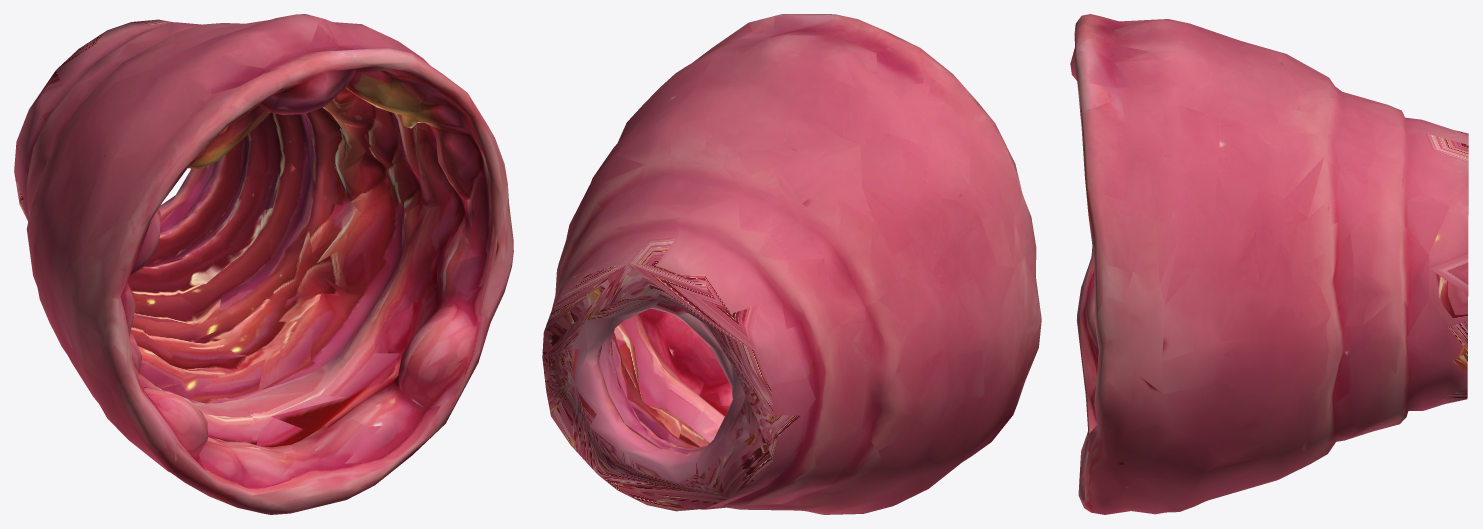
Rendered from Throat2.fbx.
3 renders of one model, left to right at view 1: azimuth 30°, elevation 25°; view 2: azimuth 150°, elevation 25°; view 3: azimuth 270°, elevation 25°, orthographic.
Parts seen in each view (by area): view 1: Mesh_0.001; view 2: Mesh_0.001; view 3: Mesh_0.001.
Boxes of the visible parts, x1,y1,x2,y2 form: Mesh_0.001: (14, 14, 513, 514); Mesh_0.001: (542, 14, 1041, 514); Mesh_0.001: (1070, 14, 1468, 514).
Size of the model in its own units: 1.58 by 1.66 by 1.3.
Materials: 1 (1 with a texture image).
